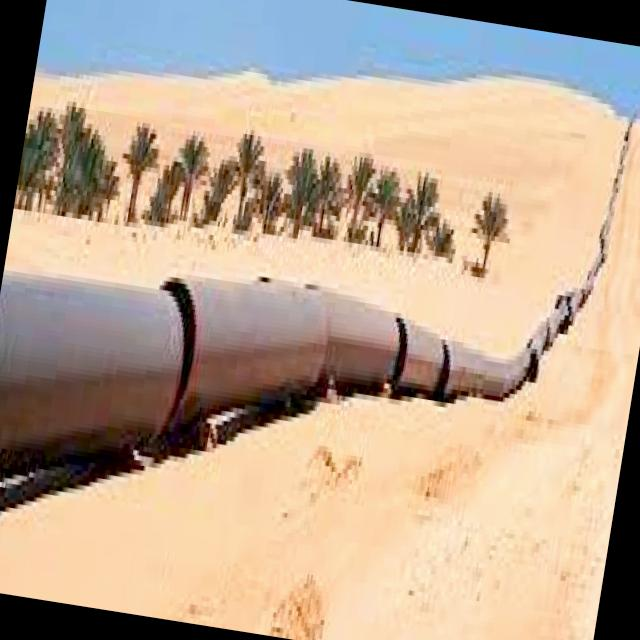gas: (0, 272, 581, 458)
